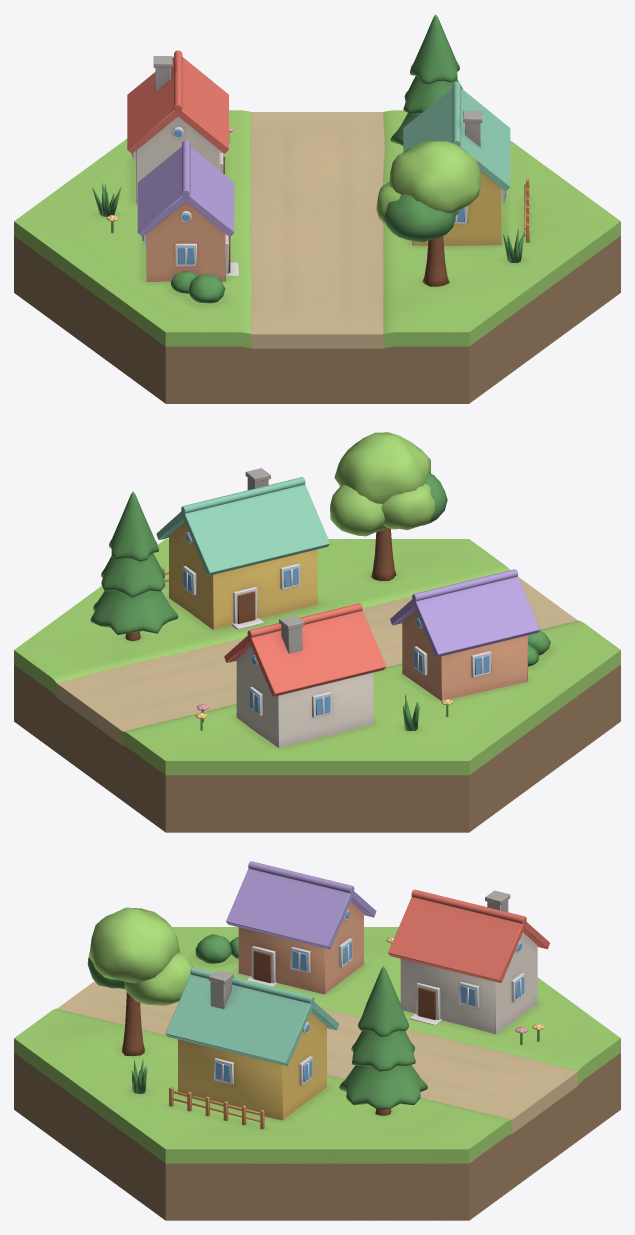
The model's file is hex-tile-village.glb.
3 renders of one model, top to bottom at view 1: azimuth 30°, elevation 25°; view 2: azimuth 150°, elevation 25°; view 3: azimuth 270°, elevation 25°, orthographic.
Parts seen in each view (by area): view 1: hex-tile-village_body; view 2: hex-tile-village_body; view 3: hex-tile-village_body.
Part boxes in pixels (x1=…): hex-tile-village_body: x1=14, y1=14, x2=620, y2=403; hex-tile-village_body: x1=14, y1=432, x2=620, y2=832; hex-tile-village_body: x1=14, y1=861, x2=620, y2=1220.
Bounding box in the file's own units: 2 × 0.9133 × 2.31.
1 material, 1 textured.
